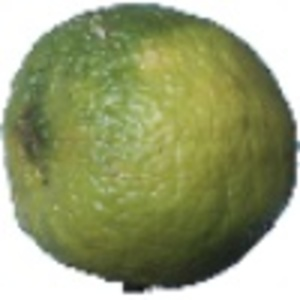limão: (1, 2, 300, 292)
